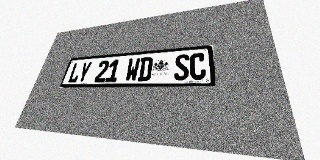1: (105, 59, 121, 82)
2: (94, 60, 110, 82)
C: (190, 52, 206, 80)
D: (137, 57, 153, 81)
L: (67, 62, 83, 83)
S: (174, 54, 189, 80)
W: (124, 58, 140, 82)
Y: (76, 61, 92, 83)
